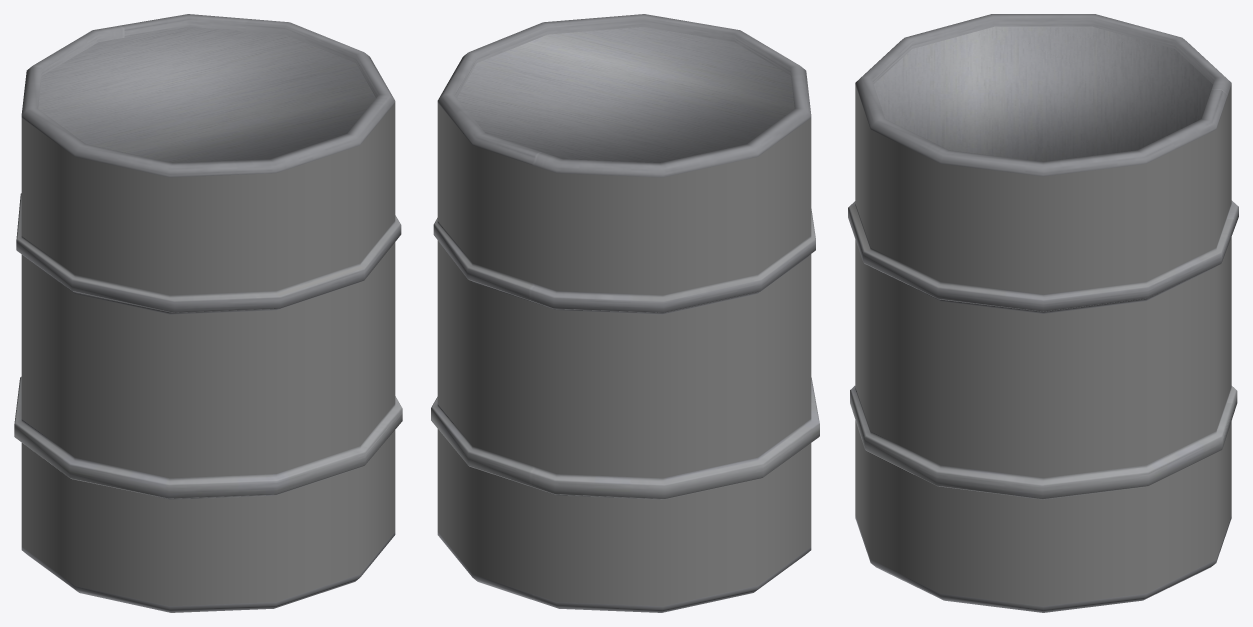
The model's file is Standard Barrel.FBX.
3 renders of one model, left to right at view 1: azimuth 30°, elevation 25°; view 2: azimuth 150°, elevation 25°; view 3: azimuth 270°, elevation 25°, orthographic.
Visible parts, largest first — view 1: Standard Barrel; view 2: Standard Barrel; view 3: Standard Barrel.
Part boxes in pixels (x1,y1,x2,y2): Standard Barrel: (14,14,402,612); Standard Barrel: (431,14,819,612); Standard Barrel: (848,14,1238,612).
Size of the model in its own units: 24.92 by 25.14 by 31.71.
Materials: 3 (1 with a texture image).
